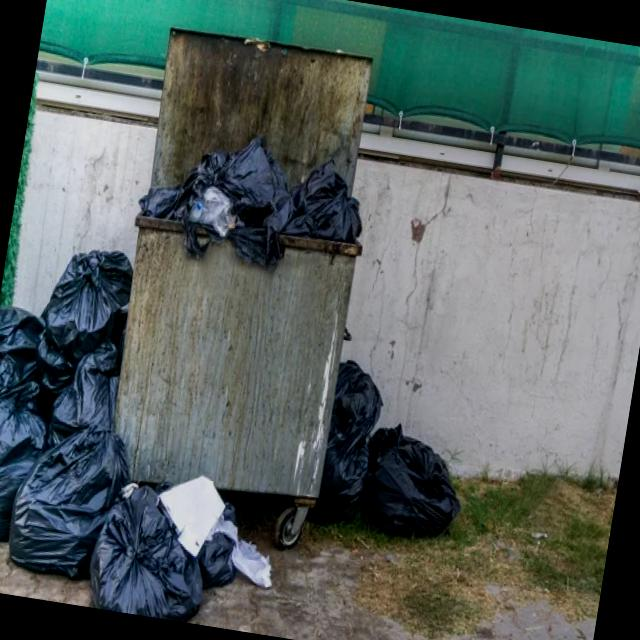garbage: (0, 259, 230, 599)
